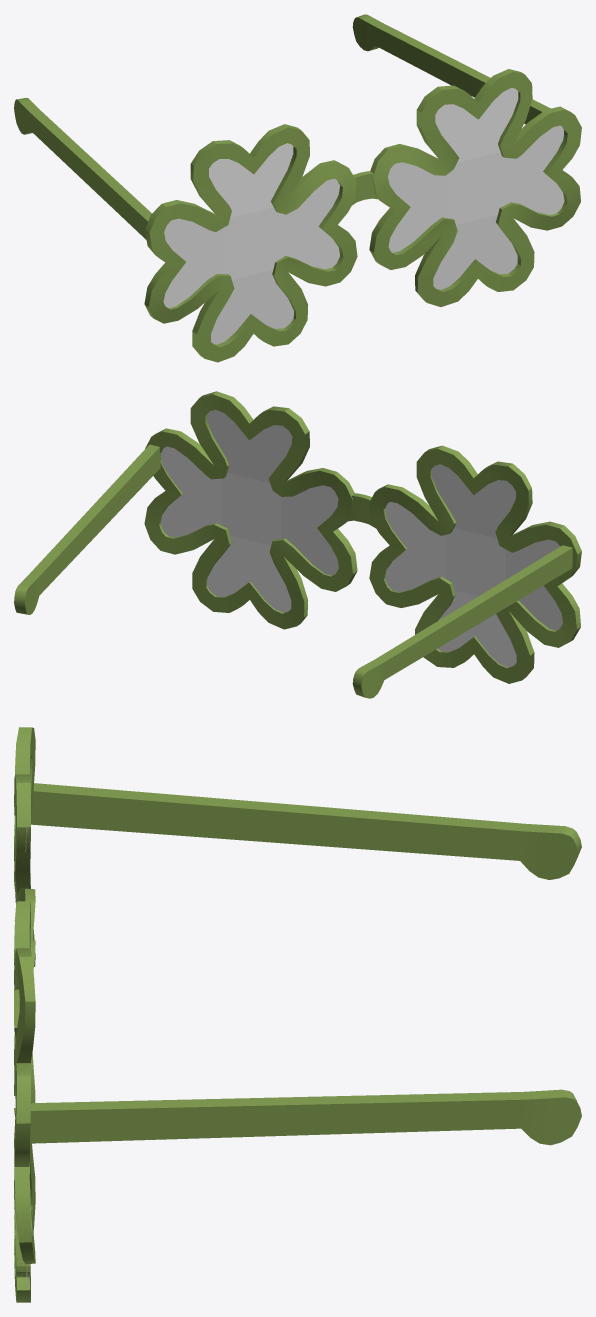
The model's file is ShamrockGlasses_01.fbx.
The picture shows the model from 3 angles, top to bottom: view 1: azimuth 30°, elevation 25°; view 2: azimuth 150°, elevation 25°; view 3: azimuth 270°, elevation 25°; orthographic projection. The views are drawn at different scales.
Visible parts, largest first — view 1: ShamrockGlasses_01; view 2: ShamrockGlasses_01; view 3: ShamrockGlasses_01.
Boxes of the visible parts, x1,y1,x2,y2 form: ShamrockGlasses_01: [14, 14, 581, 362]; ShamrockGlasses_01: [14, 391, 581, 698]; ShamrockGlasses_01: [14, 727, 581, 1302].
Bounding box in the file's own units: 0.2667 × 0.1283 × 0.1909.
